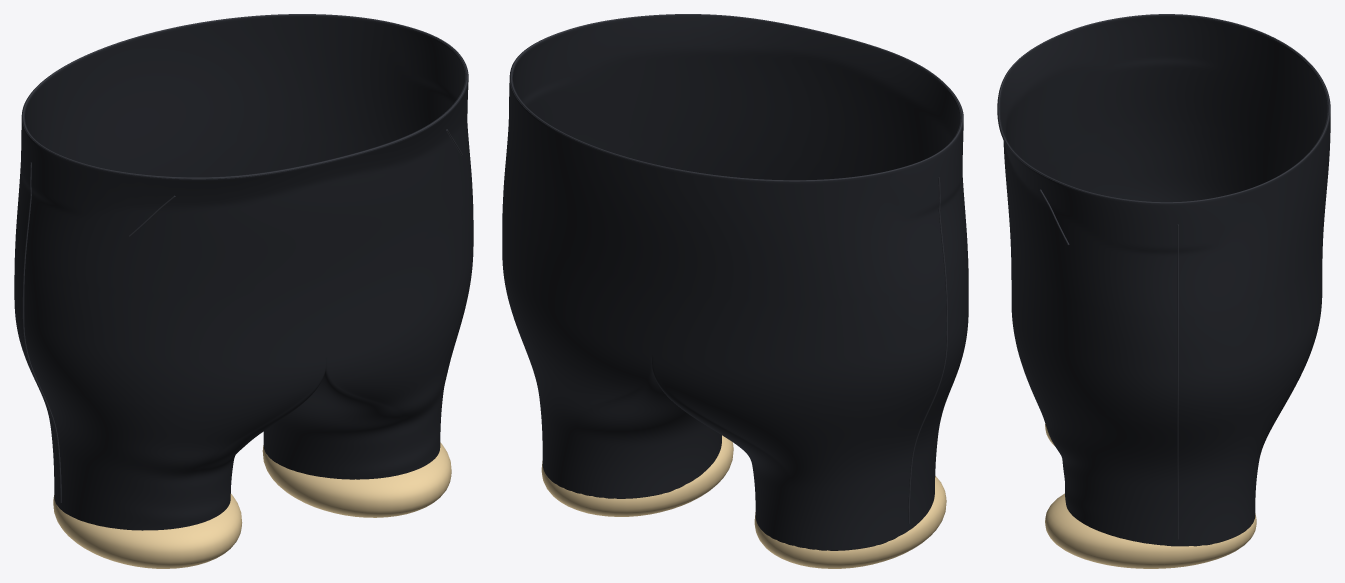
The model's file is Feminine-pants.glb.
3 views of the same model, side by side, from view 1: azimuth 30°, elevation 25°; view 2: azimuth 150°, elevation 25°; view 3: azimuth 270°, elevation 25° (orthographic). The views are drawn at different scales.
Parts seen in each view (by area): view 1: Bottom / continuous pants186, Skin / pants foot186 1, Skin / pants foot186 -1, Bottom / pants hem186 0 export, Bottom / side seam186 -1 export; view 2: Bottom / continuous pants186, Skin / pants foot186 -1, Skin / pants foot186 1, Bottom / pants hem186 0 export, Bottom / side seam186 -1 export; view 3: Bottom / continuous pants186, Skin / pants foot186 1, Bottom / pants hem186 0 export, Bottom / side seam186 1 export.
Boxes of the visible parts, left/top/right/bottom form: Bottom / continuous pants186: left=14, top=15, right=473, bottom=530; Skin / pants foot186 1: left=262, top=442, right=451, bottom=517; Skin / pants foot186 -1: left=53, top=494, right=242, bottom=568; Bottom / pants hem186 0 export: left=22, top=14, right=467, bottom=178; Bottom / side seam186 -1 export: left=22, top=162, right=61, bottom=502; Bottom / continuous pants186: left=502, top=15, right=968, bottom=550; Skin / pants foot186 -1: left=754, top=476, right=946, bottom=568; Skin / pants foot186 1: left=541, top=435, right=733, bottom=516; Bottom / pants hem186 0 export: left=510, top=14, right=962, bottom=181; Bottom / side seam186 -1 export: left=908, top=177, right=947, bottom=523; Bottom / continuous pants186: left=997, top=15, right=1330, bottom=546; Skin / pants foot186 1: left=1045, top=493, right=1256, bottom=568; Bottom / pants hem186 0 export: left=998, top=14, right=1329, bottom=203; Bottom / side seam186 1 export: left=1177, top=224, right=1178, bottom=539.
Bounding box in the file's own units: 0.6157 × 0.571 × 0.4376.
